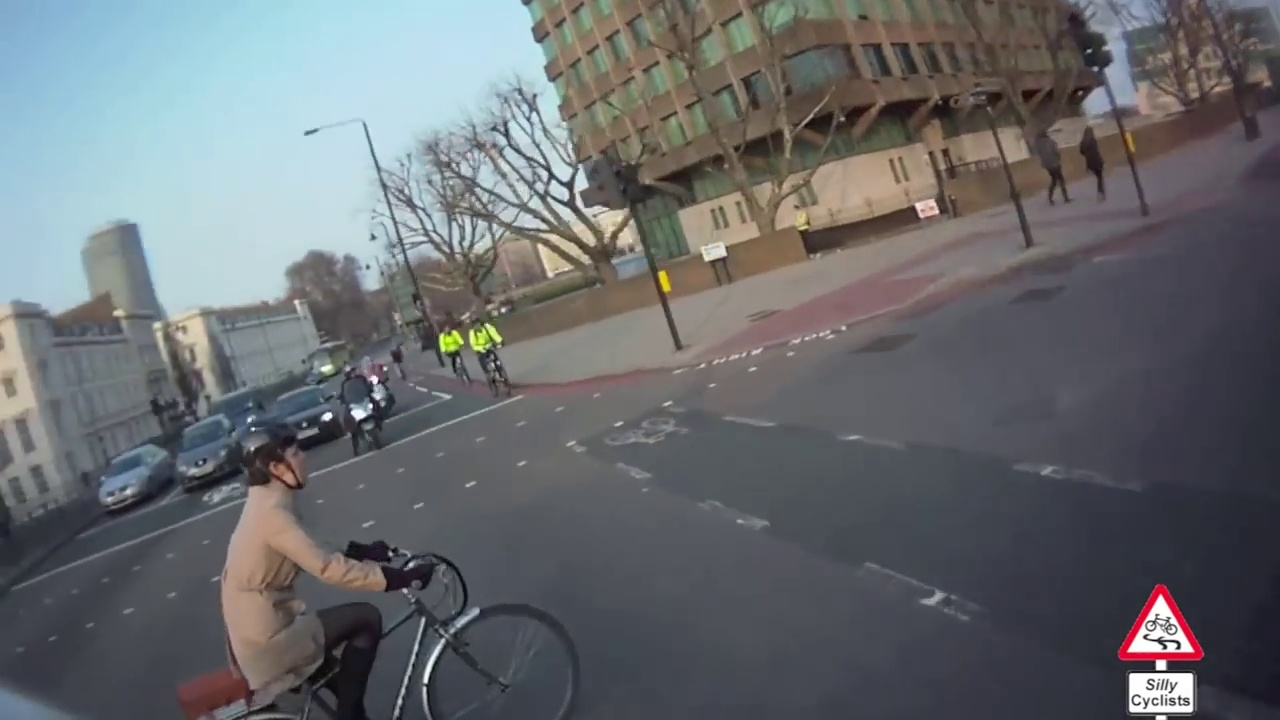cyclist_front: (470, 314, 520, 406), (435, 325, 476, 394)
cyclist_side: (129, 419, 586, 710)
